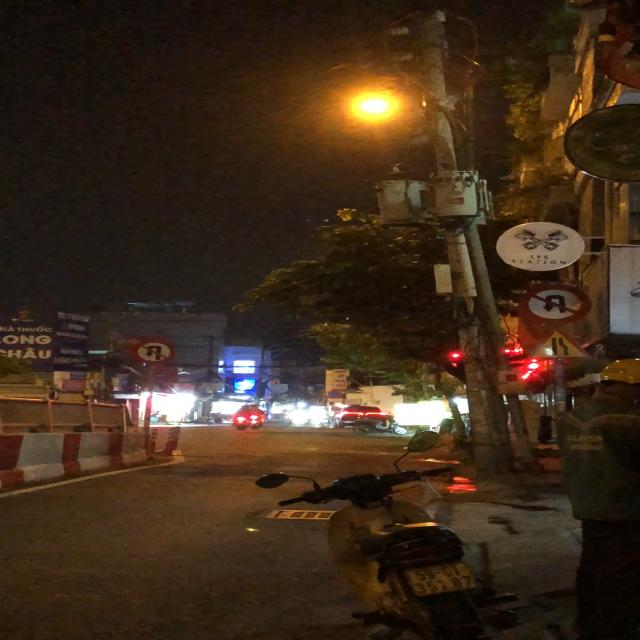Bien bao cam quay dau xe: (516, 282, 595, 321), (130, 336, 178, 366)
Bien bao duong bi thu hep: (522, 328, 600, 363)
